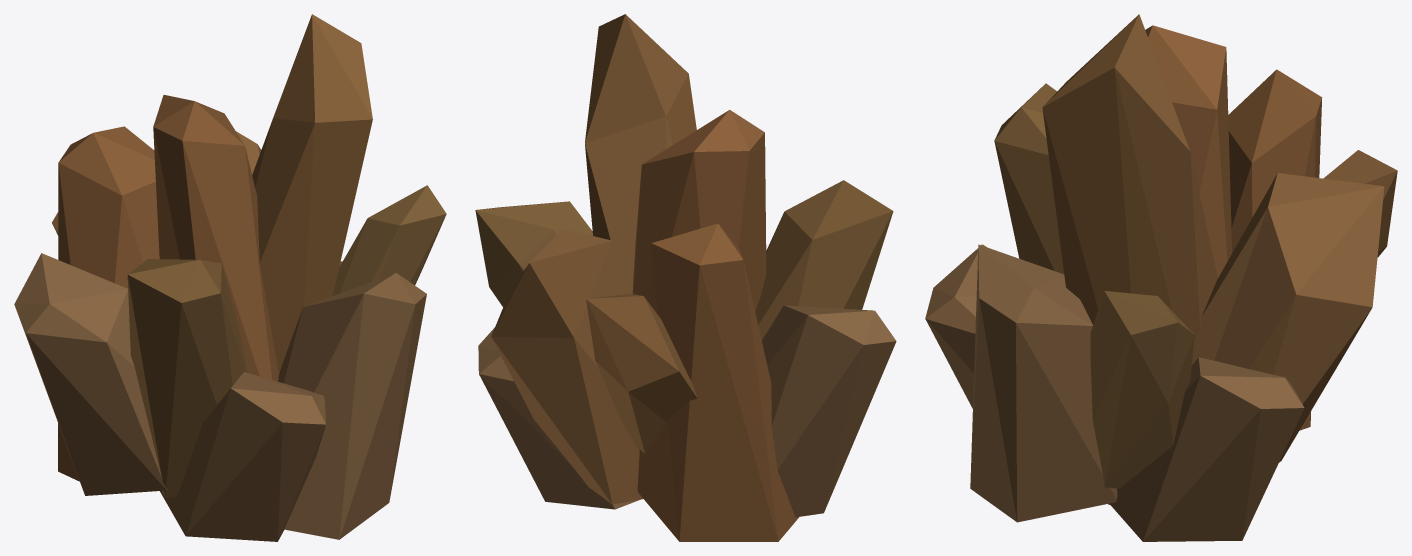
File: EruptionPrefabV2.fbx
The picture shows the model from 3 angles, left to right: view 1: azimuth 30°, elevation 25°; view 2: azimuth 150°, elevation 25°; view 3: azimuth 270°, elevation 25°; orthographic projection. The views are drawn at different scales.
Parts seen in each view (by area): view 1: Rock 1, Rock 6, Rock 7.003, Rock 5.001, Rock 4, Rock 7.001, Rock 5, Rock 3; view 2: Rock 5, Rock 2, Rock 7.003, Rock 1, Rock 5.001, Rock 4, Rock 1.001, Rock 7.002, Rock 3; view 3: Rock 1, Rock 6, Rock 2, Rock 7.002, Rock 3, Rock 5.001, Rock 5, Rock 4, Rock 7.001, Rock 1.001.
Boxes of the visible parts, <box> form: Rock 1: <box>252,14,372,373</box>; Rock 6: <box>278,273,426,539</box>; Rock 7.003: <box>14,253,167,495</box>; Rock 5.001: <box>153,95,278,381</box>; Rock 4: <box>127,259,247,498</box>; Rock 7.001: <box>160,372,325,541</box>; Rock 5: <box>58,126,159,481</box>; Rock 3: <box>333,185,446,295</box>; Rock 5: <box>637,223,798,541</box>; Rock 2: <box>491,229,643,504</box>; Rock 7.003: <box>762,305,896,517</box>; Rock 1: <box>585,14,696,293</box>; Rock 5.001: <box>632,110,766,311</box>; Rock 4: <box>755,180,893,340</box>; Rock 1.001: <box>586,294,697,453</box>; Rock 7.002: <box>478,327,639,509</box>; Rock 3: <box>475,201,592,306</box>; Rock 1: <box>1042,14,1217,342</box>; Rock 6: <box>970,244,1117,522</box>; Rock 2: <box>1191,173,1384,462</box>; Rock 7.002: <box>1109,357,1304,541</box>; Rock 3: <box>1090,291,1194,488</box>; Rock 5.001: <box>1145,25,1231,277</box>; Rock 5: <box>1228,69,1322,430</box>; Rock 4: <box>994,83,1063,274</box>; Rock 7.001: <box>925,244,986,408</box>; Rock 1.001: <box>1108,150,1397,504</box>.
Size of the model in its own units: 424 by 478 by 384.
